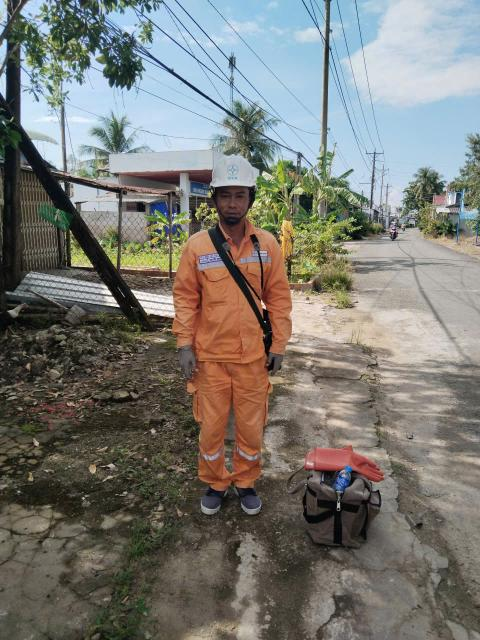gloves: (168, 348, 202, 384), (263, 344, 286, 382)
helmet: (199, 149, 263, 202)
shoes: (191, 473, 230, 525), (227, 475, 268, 520)
